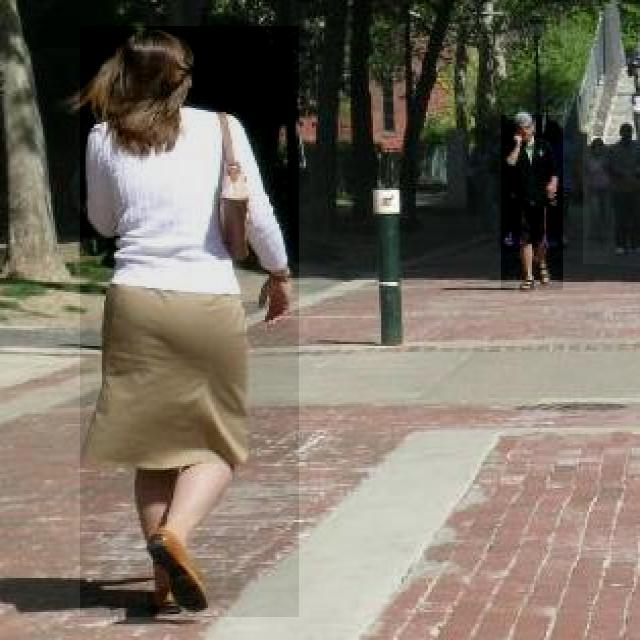with scooter: (80, 26, 299, 617), (501, 115, 563, 290), (609, 116, 640, 266), (583, 136, 618, 264)
